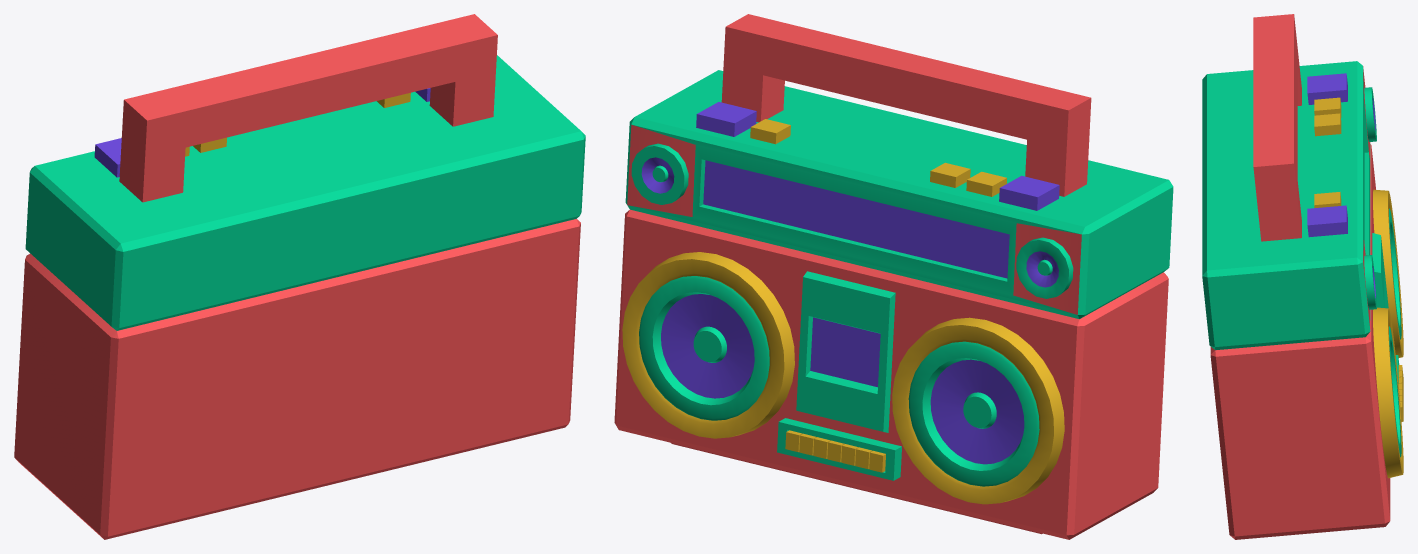
Rendered from Boombox.fbx.
The picture shows the model from 3 angles, left to right: view 1: azimuth 30°, elevation 25°; view 2: azimuth 150°, elevation 25°; view 3: azimuth 270°, elevation 25°; orthographic projection. The views are drawn at different scales.
Parts seen in each view (by area): view 1: Speakers; view 2: Speakers; view 3: Speakers.
Part boxes in pixels (left/top/right/bottom): Speakers: left=14, top=14, right=585, bottom=539; Speakers: left=614, top=14, right=1173, bottom=539; Speakers: left=1202, top=14, right=1403, bottom=539.
Size of the model in its own units: 0.5668 by 0.4747 by 0.2408.
